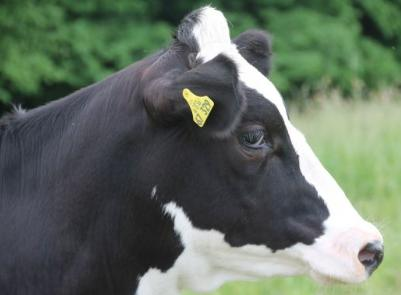cow: (0, 7, 383, 295)
